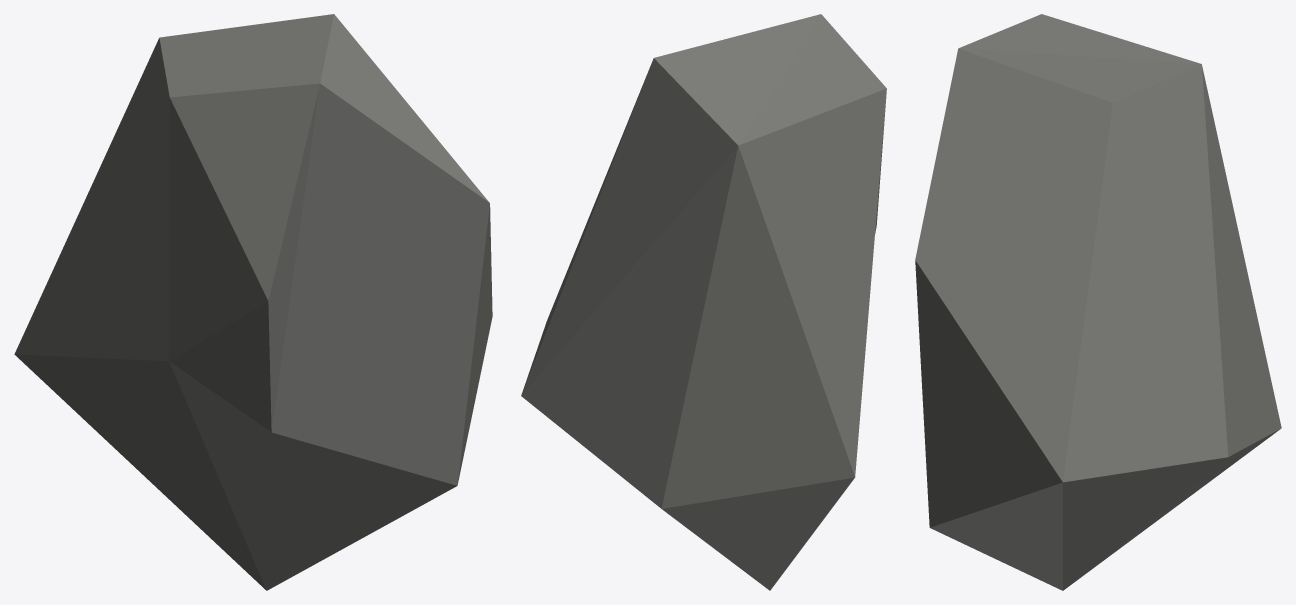
Rendered from ItemStone.fbx.
3 views of the same model, side by side, from view 1: azimuth 30°, elevation 25°; view 2: azimuth 150°, elevation 25°; view 3: azimuth 270°, elevation 25° (orthographic).
Visible parts, largest first — view 1: ItemStone; view 2: ItemStone; view 3: ItemStone.
Part boxes in pixels (x1,y1,x2,y2): ItemStone: (14, 14, 492, 590); ItemStone: (521, 14, 886, 590); ItemStone: (915, 14, 1281, 590).
Size of the model in its own units: 11.54 by 15.23 by 9.32.
